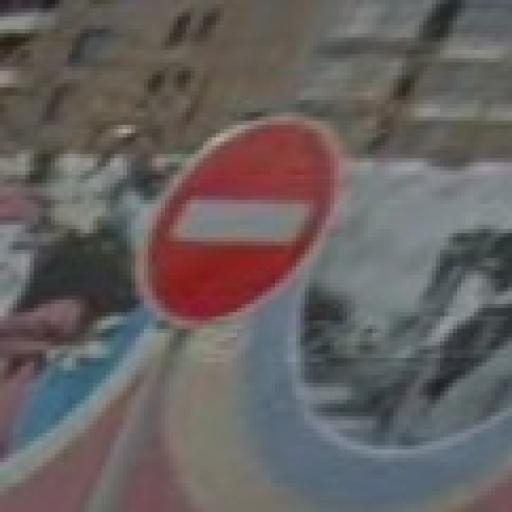traffic_sign: (136, 113, 348, 330)
